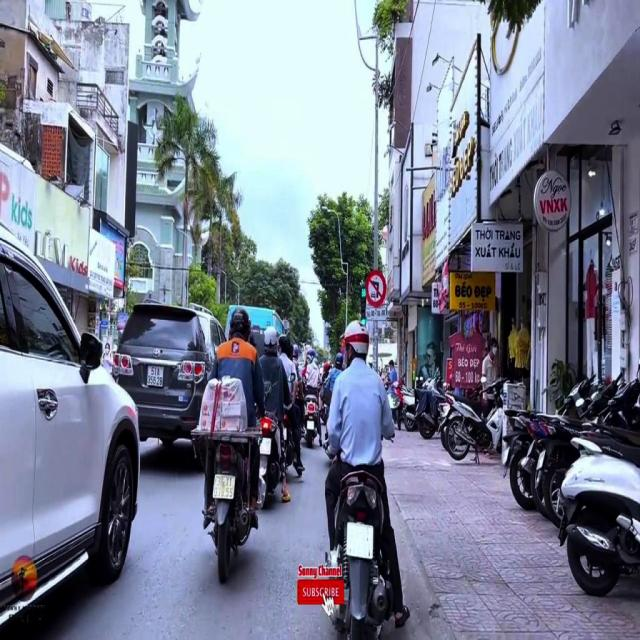cam_o_to_re_trai: (366, 270, 387, 308)
khac: (364, 307, 387, 320)
